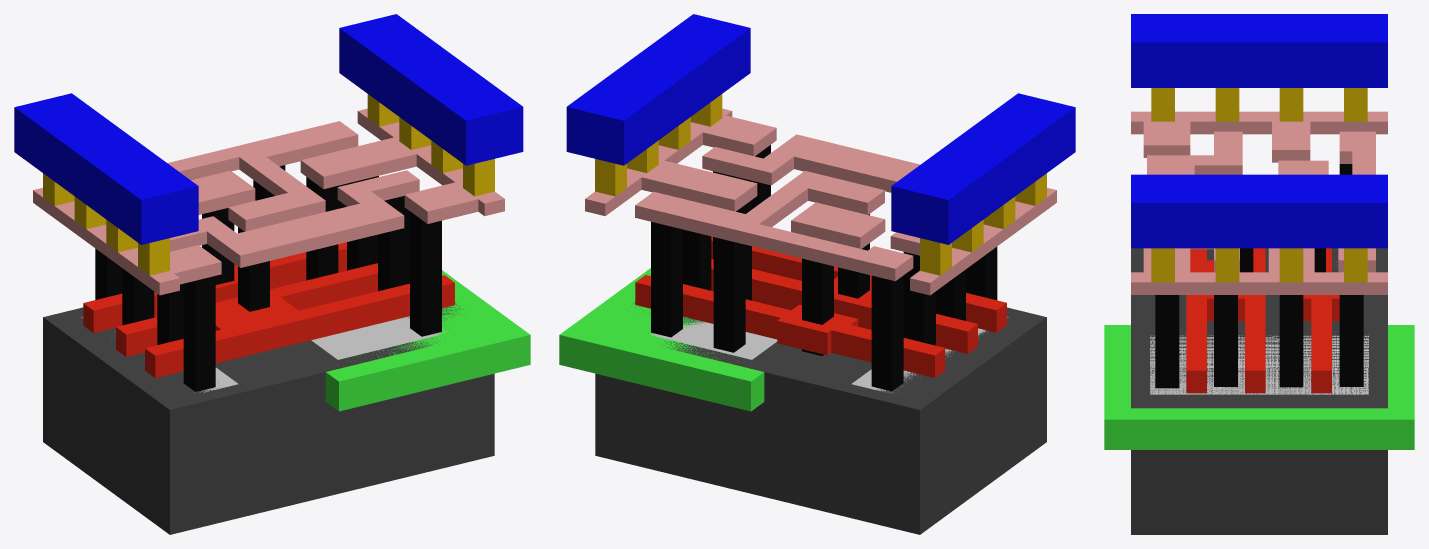
Rendered from sky130_fd_sc_hd__clkbuf_2.obj.
3 views of the same model, side by side, from view 1: azimuth 30°, elevation 25°; view 2: azimuth 150°, elevation 25°; view 3: azimuth 270°, elevation 25° (orthographic).
Visible parts, largest first — view 1: subs, li, metal1, licon, poly, nwell, mcon, tap; view 2: subs, li, metal1, licon, poly, nwell, mcon, tap; view 3: metal1, subs, li, nwell, licon, poly, mcon, tap.
Boxes of the visible parts, box(x1,y1,x2,y2) form: subs: box(43, 303, 494, 534); li: box(33, 108, 504, 295); metal1: box(14, 14, 523, 244); licon: box(95, 165, 441, 391); poly: box(83, 242, 454, 378); nwell: box(325, 270, 530, 411); mcon: box(43, 94, 494, 275); tap: box(311, 316, 448, 359); subs: box(595, 302, 1046, 534); li: box(585, 108, 1056, 295); metal1: box(566, 14, 1075, 244); licon: box(651, 145, 997, 391); poly: box(635, 236, 1006, 377); nwell: box(559, 268, 764, 411); mcon: box(595, 94, 1046, 275); tap: box(650, 321, 777, 359); metal1: box(1131, 14, 1387, 248); subs: box(1131, 248, 1387, 534); li: box(1131, 111, 1387, 294); nwell: box(1104, 325, 1414, 449); licon: box(1155, 164, 1363, 388); poly: box(1186, 248, 1339, 393); mcon: box(1151, 88, 1367, 282); tap: box(1150, 335, 1368, 394).
Size of the model in its own units: 3.2 by 2.74 by 2.22.
